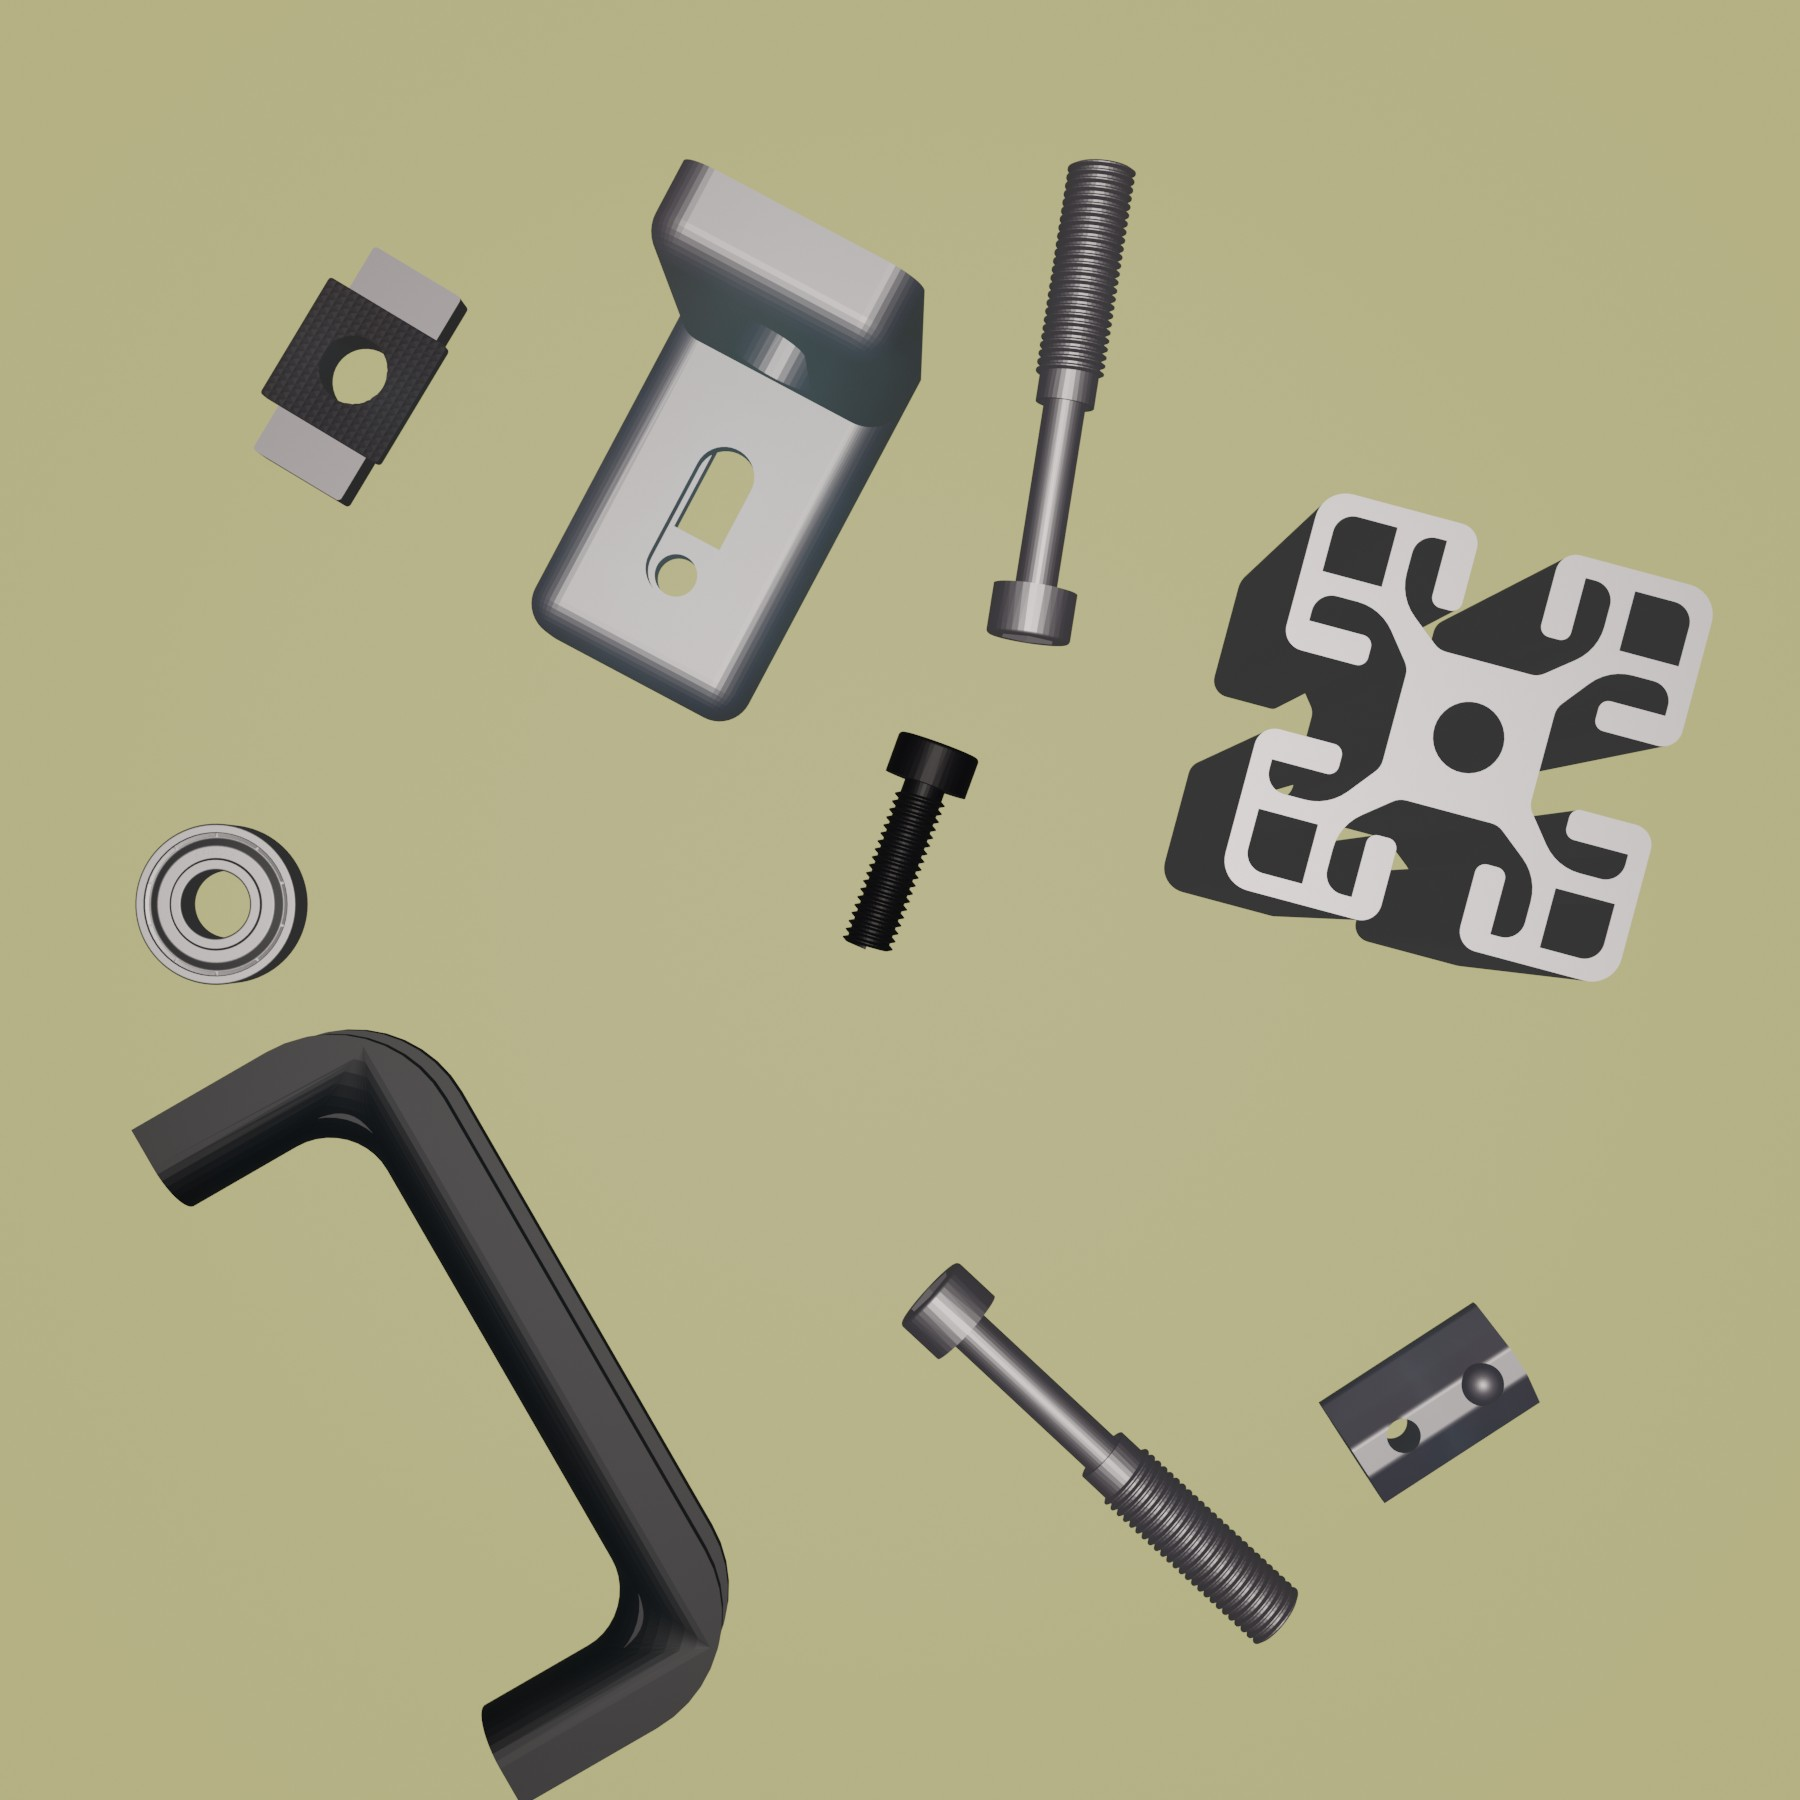Aluminium Extension: (1162, 491, 1716, 987)
Ball Bearing: (132, 819, 308, 986)
Multiwinkel: (529, 157, 930, 724)
Pull Handle: (134, 1029, 730, 1800)
Shoulder Socket Head Cap Screw: (897, 1258, 1301, 1647), (982, 155, 1142, 649)
Socket Head Cap Screw: (837, 729, 979, 954)
T Nut Square: (251, 241, 471, 509)
T Spring Nut: (1317, 1301, 1545, 1503)
